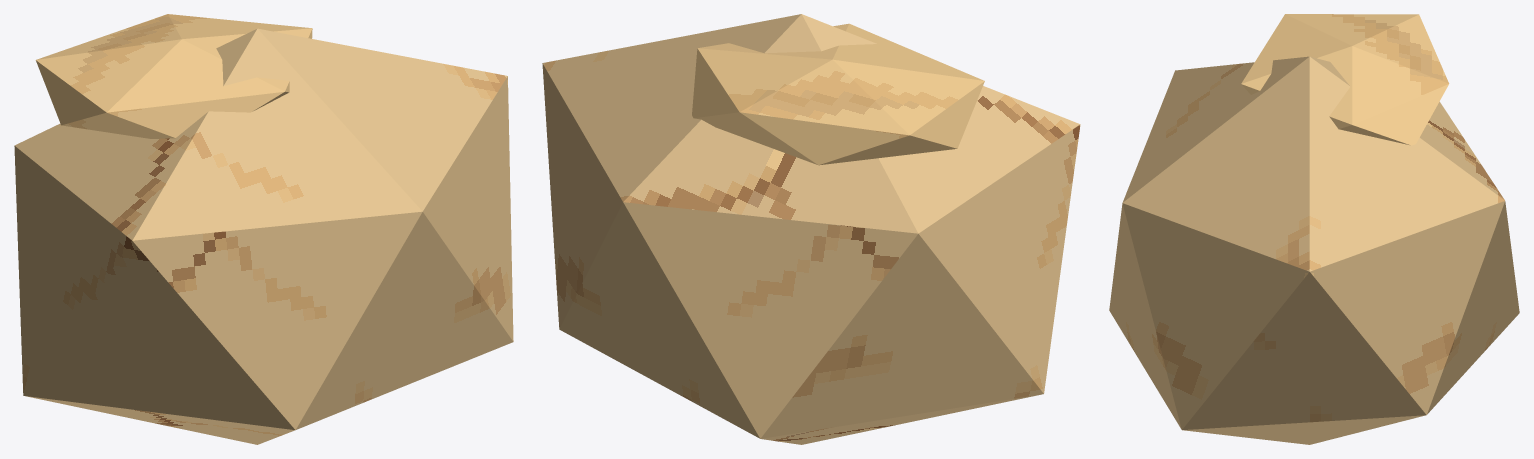
The model's file is pedra.fbx.
The picture shows the model from 3 angles, left to right: view 1: azimuth 30°, elevation 25°; view 2: azimuth 150°, elevation 25°; view 3: azimuth 270°, elevation 25°; orthographic projection. The views are drawn at different scales.
Visible parts, largest first — view 1: deserto_pedra; view 2: deserto_pedra; view 3: deserto_pedra.
Boxes of the visible parts, left/top/right/bottom form: deserto_pedra: left=14, top=14, right=513, bottom=444; deserto_pedra: left=542, top=14, right=1080, bottom=444; deserto_pedra: left=1109, top=14, right=1519, bottom=444.
Size of the model in its own units: 73.53 by 60.37 by 57.82.
Materials: 2 (2 with a texture image).
